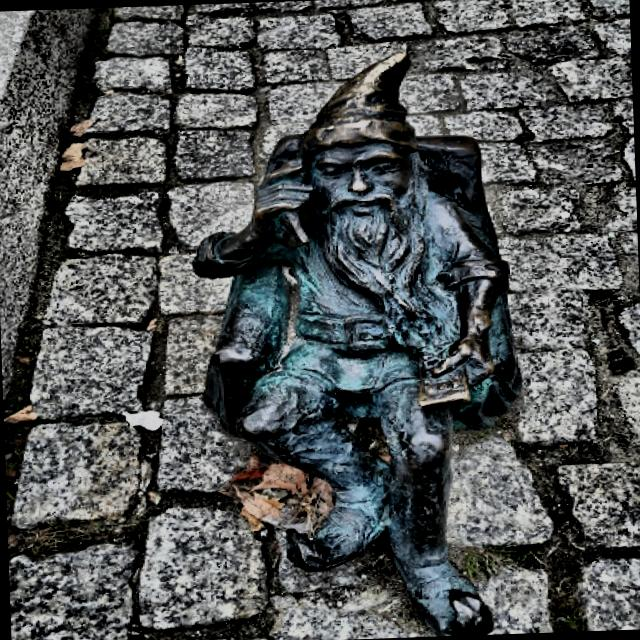Dialogomir: (193, 55, 516, 636)
